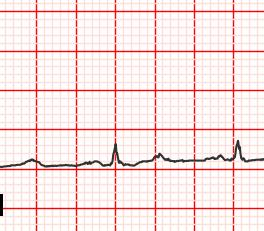LVH: (145, 151, 172, 166)
Poor R Progression: (109, 140, 123, 168), (231, 139, 246, 164)
